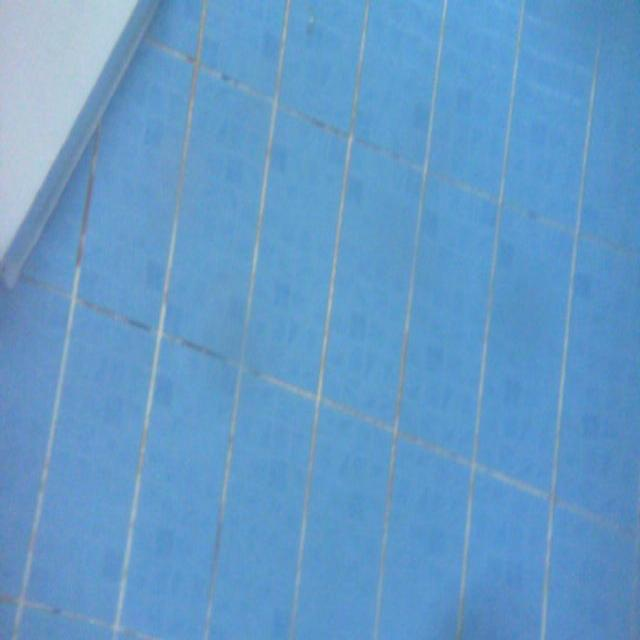Cuboid: (0, 0, 164, 293)
